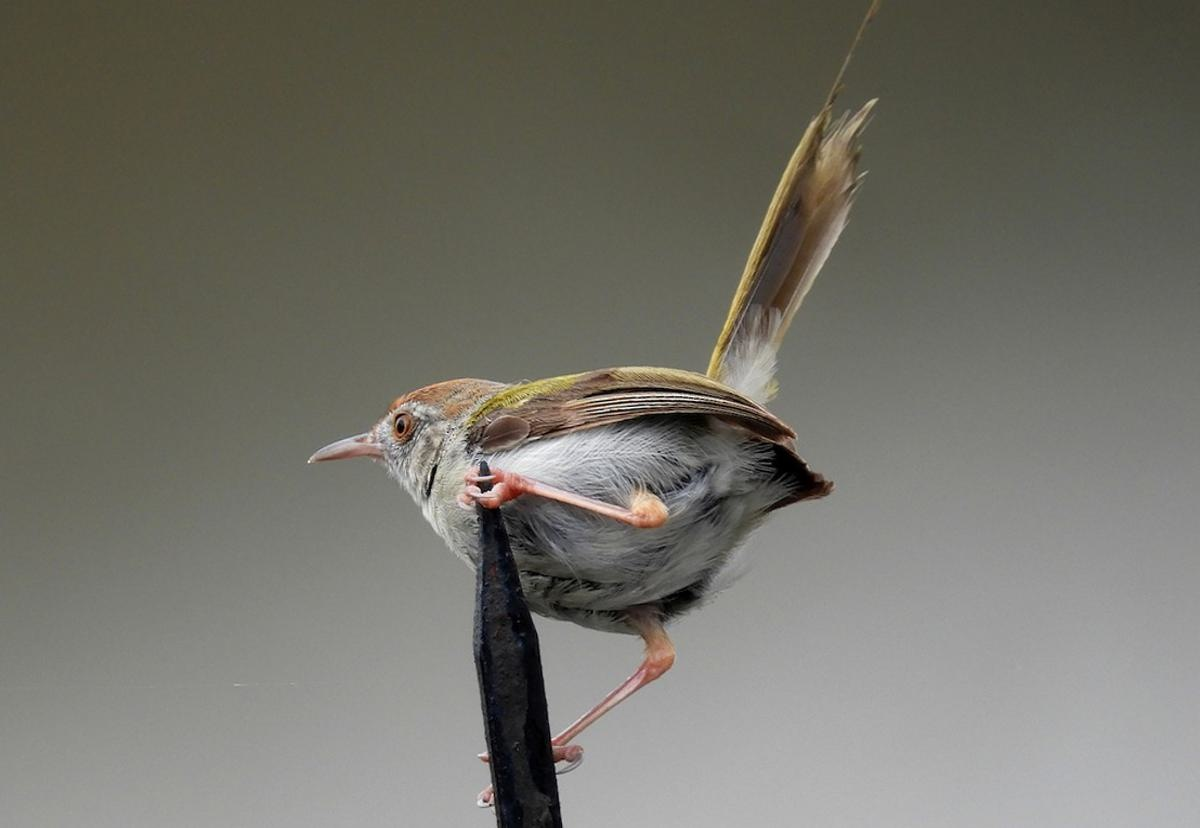tailorbird: (313, 318, 856, 715)
